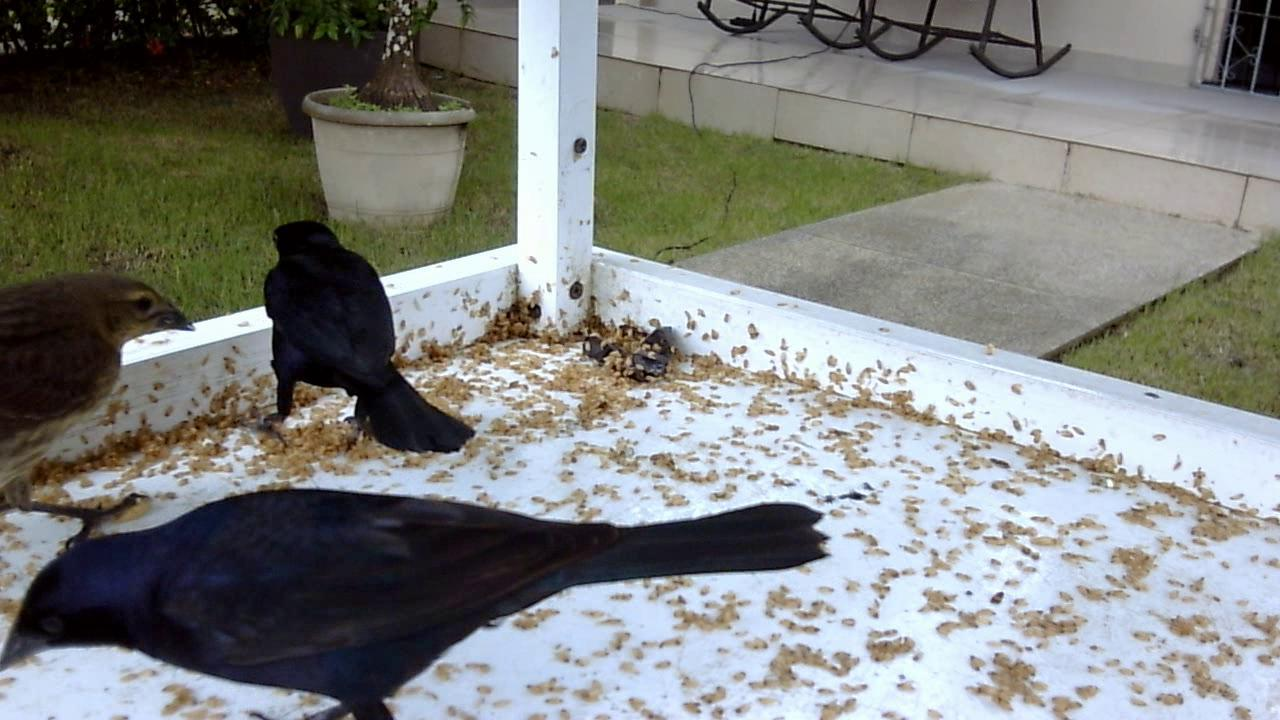chupim: (1, 464, 824, 716), (238, 209, 479, 466), (1, 269, 200, 562)
